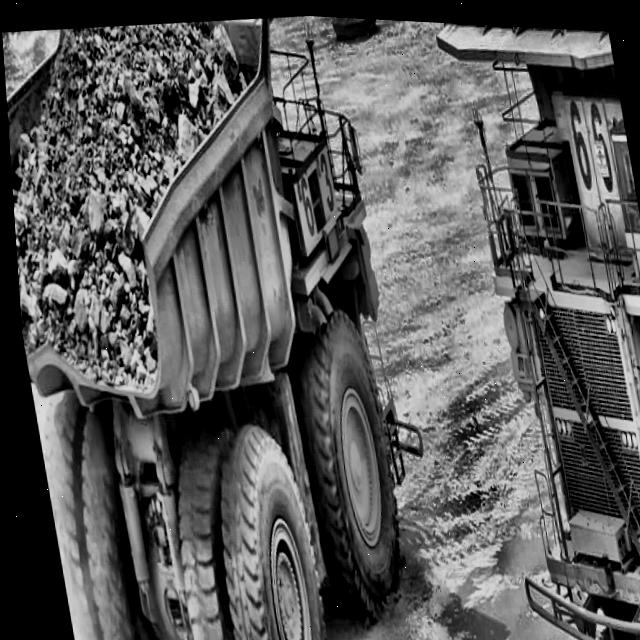dump_truck: (0, 0, 476, 640), (438, 18, 640, 640)
